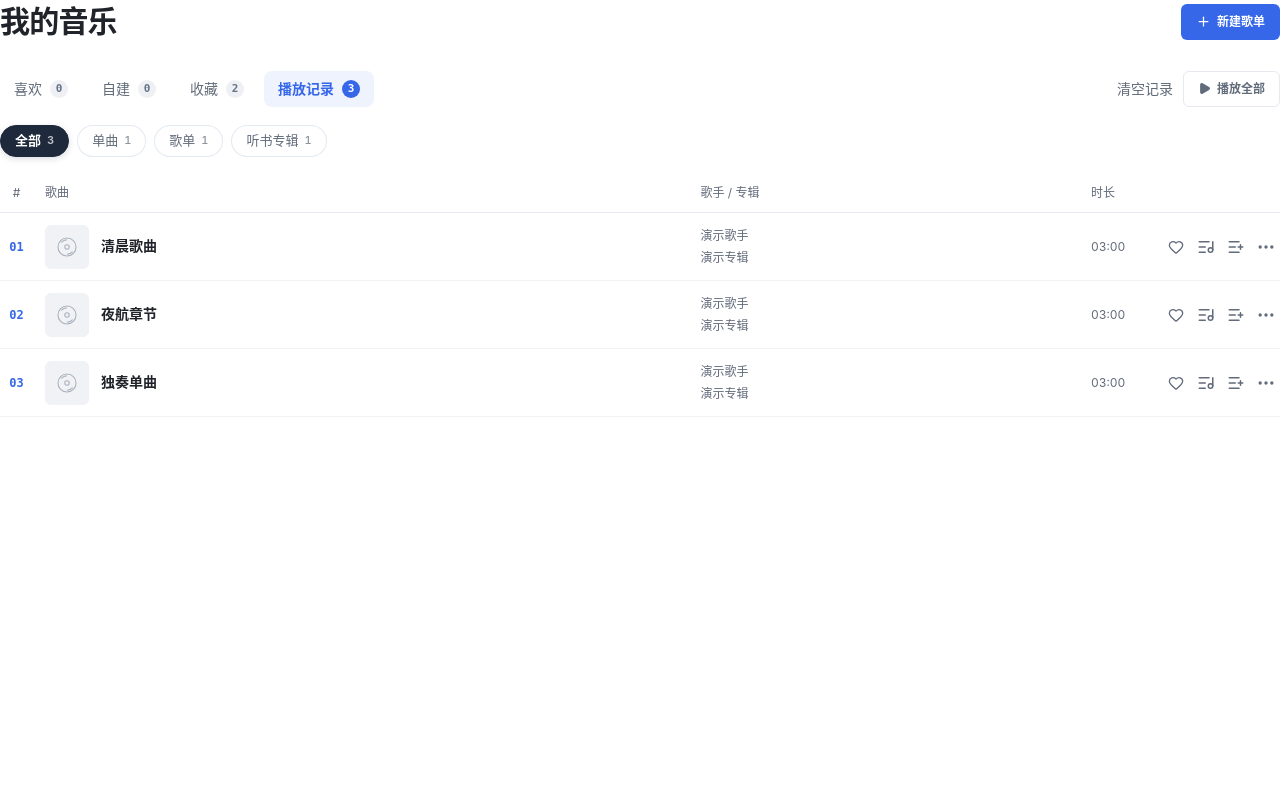
Test: 我的音乐库 › 清空确认成功后即使重新读取失败也移除各分类旧记录和计数
The image size is (1280, 800).
Click the button "清空记录".
click(1145, 88)  # box [1117,72,1173,105]
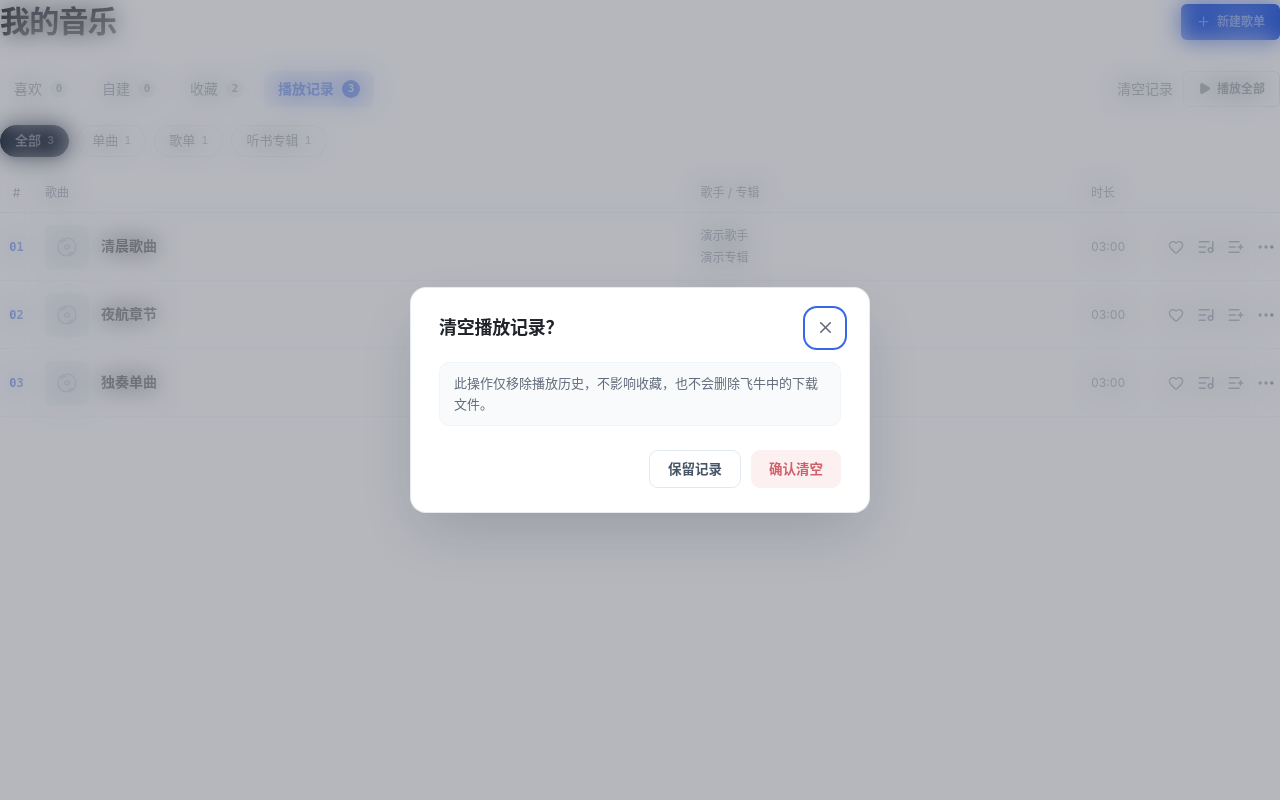
Click the button "确认清空".
click(796, 469)  # box [751,450,841,488]
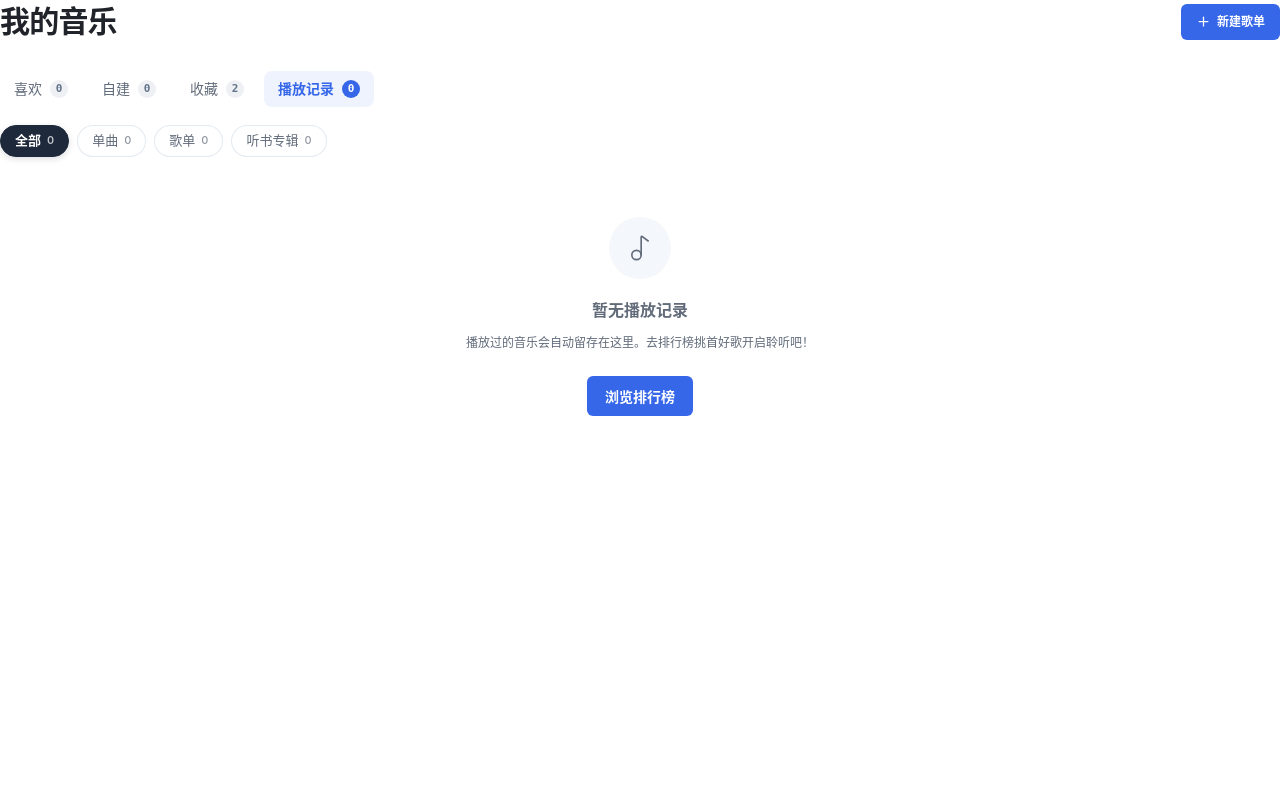
Expected: the heading "暂无播放记录" is shown, [592,298,688,322]
